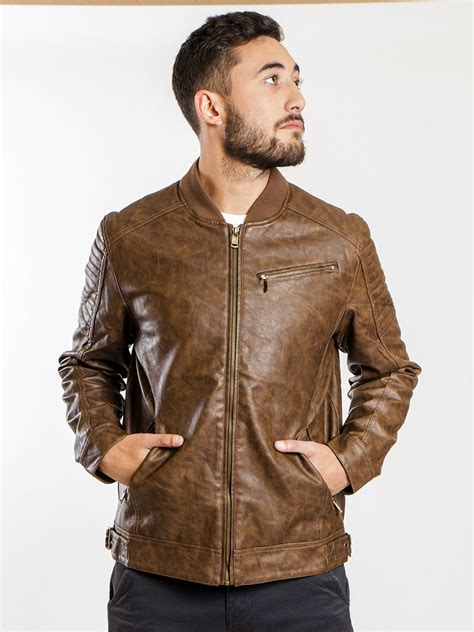cuero: (58, 156, 421, 587)
